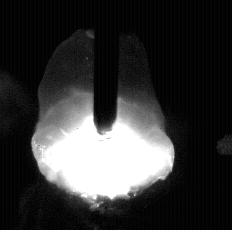arame: (95, 0, 119, 135)
poca: (31, 0, 174, 230)
